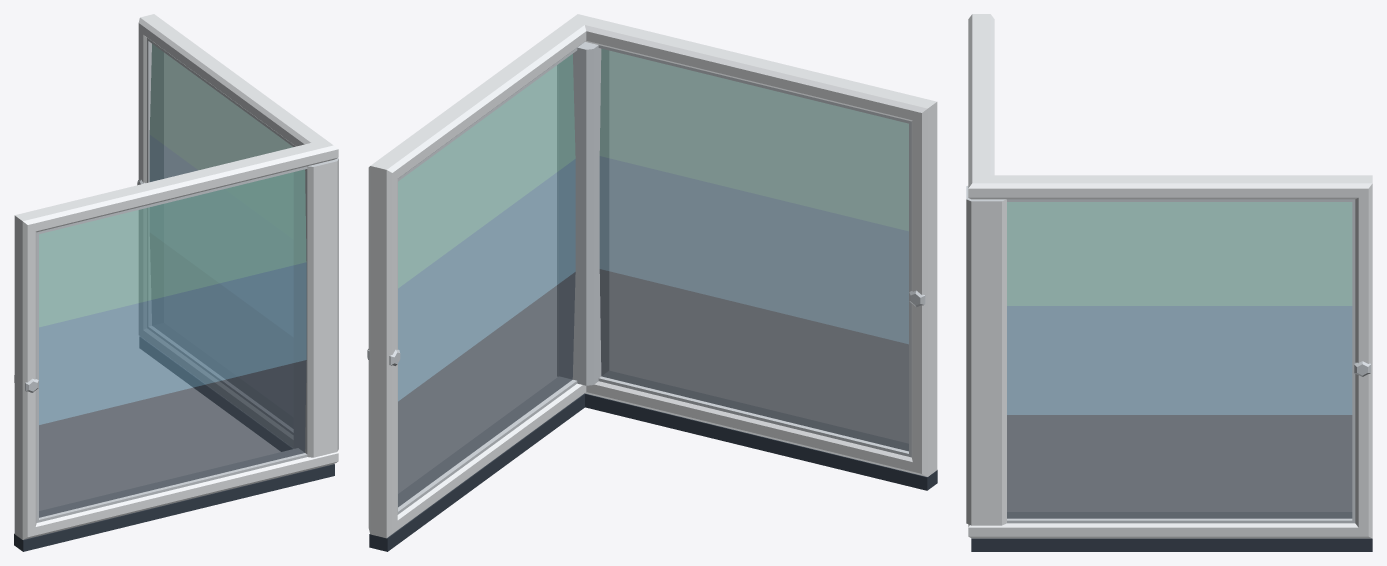
File: glazed-curtain-screen-5bad70.glb
3 renders of one model, left to right at view 1: azimuth 30°, elevation 25°; view 2: azimuth 150°, elevation 25°; view 3: azimuth 270°, elevation 25°, orthographic. The views are drawn at different scales.
Visible parts, largest first — view 1: screen-glazing, screen-frame; view 2: screen-glazing, screen-frame; view 3: screen-glazing, screen-frame.
Boxes of the visible parts, x1,y1,x2,y2 form: screen-glazing: [39, 44, 306, 517]; screen-frame: [14, 14, 338, 551]; screen-glazing: [398, 48, 908, 507]; screen-frame: [367, 14, 937, 551]; screen-glazing: [1007, 202, 1352, 518]; screen-frame: [966, 14, 1372, 551].
Size of the model in its own units: 4 by 4 by 4.
